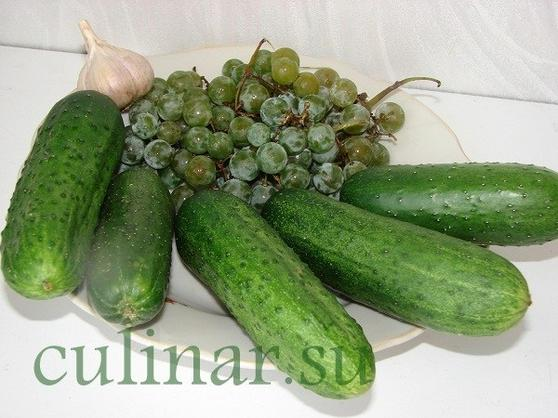cucumber: (174, 181, 389, 412), (263, 170, 533, 339), (9, 88, 124, 300), (348, 156, 558, 248), (84, 162, 175, 339)
